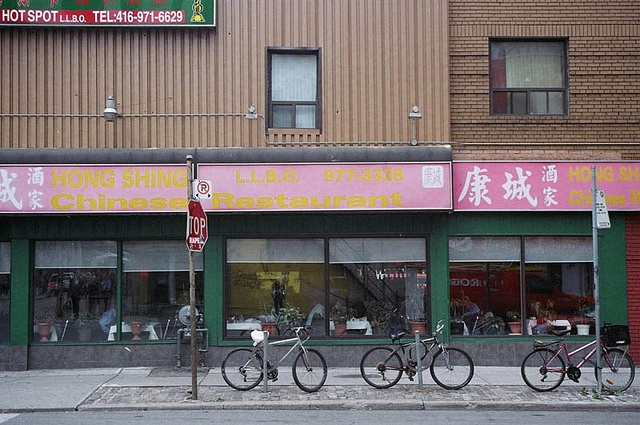non-vehicle: (360, 318, 474, 390), (520, 322, 634, 392), (220, 324, 327, 393)
